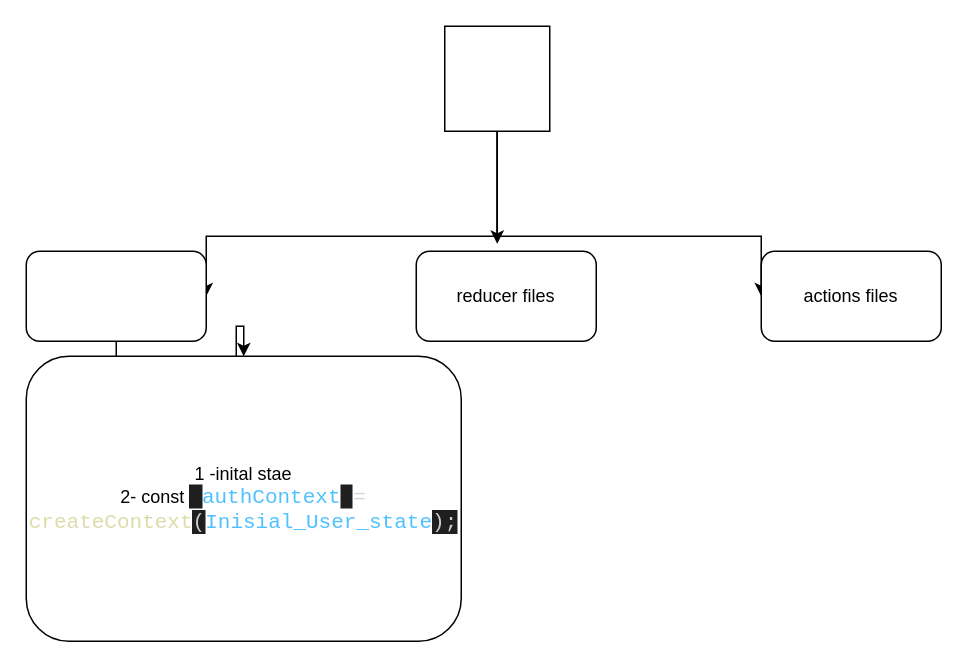
The diagram is 968 pixels wide and 668 high, and some of its shapes have lost their labels. The centre of each missing label's shape, as x and y in pixels:
"context files" belongs at pixel 115 295.
"user context" belongs at pixel 496 78.
